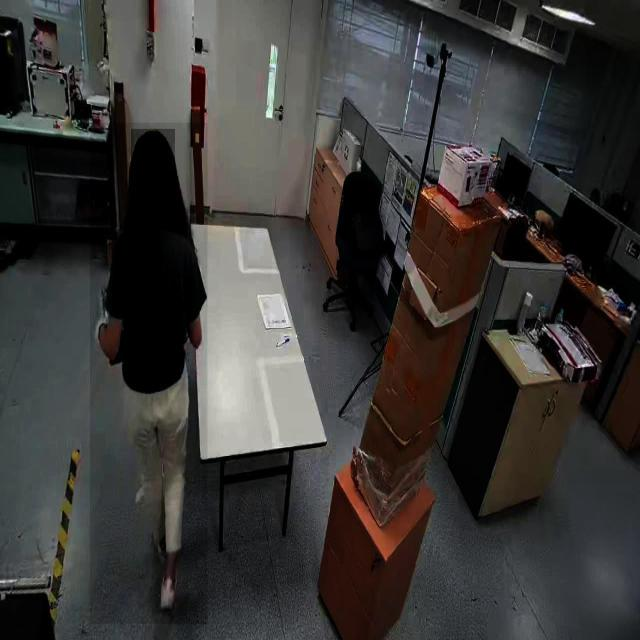head_nohelmet: (131, 129, 175, 168)
person: (90, 123, 208, 625)
